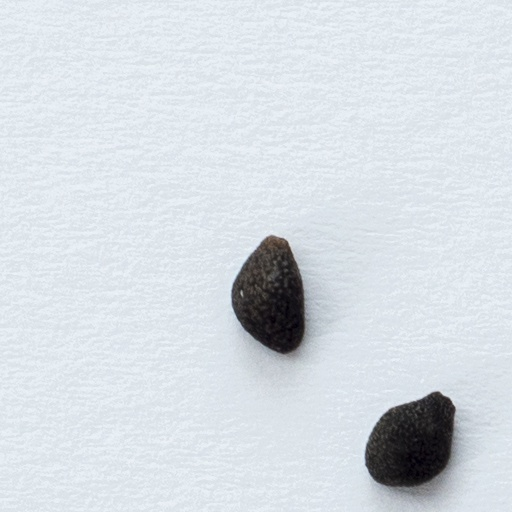Convolvulus-poly: (230, 232, 307, 354), (363, 391, 455, 486)
